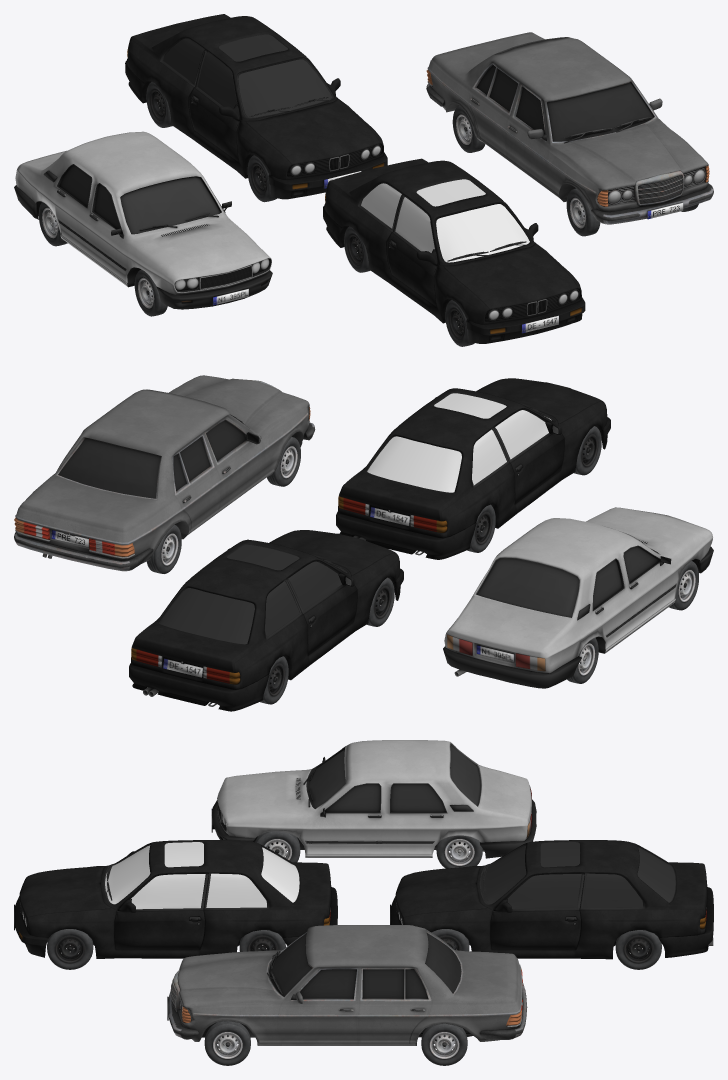
Rendered from car_pack_1.glb.
3 renders of one model, top to bottom at view 1: azimuth 30°, elevation 25°; view 2: azimuth 150°, elevation 25°; view 3: azimuth 270°, elevation 25°, orthographic. The views are drawn at different scales.
Visible parts, largest first — view 1: m123, R 12, D 30, D 30 low, D E30 glass.001, D E30 glass, car wheel 4.001, car wheel 4.003, car wheel 4.002, car wheel 4.010, car wheel 4.011, car wheel 4.012 (+2 smaller); view 2: m123, R 12, D 30 low, D 30, D E30 glass, D E30 glass.001, car wheel 4.002, car wheel 4.001, car wheel 4.010, car wheel 4.011, car wheel 4.003, car wheel 4.012 (+2 smaller); view 3: m123, R 12, D 30 low, D 30, D E30 glass, D E30 glass.001, car wheel 4.392, car wheel 4.000, car wheel 4.007, car wheel 4.013, car wheel 4.005, car wheel 4.006 (+2 smaller).
Part boxes in pixels (bbox=[...]): m123: bbox=[426, 32, 713, 224]; R 12: bbox=[14, 131, 272, 309]; D 30: bbox=[323, 158, 585, 343]; D 30 low: bbox=[125, 14, 387, 199]; D E30 glass.001: bbox=[163, 34, 331, 117]; D E30 glass: bbox=[361, 179, 529, 262]; car wheel 4.001: bbox=[566, 188, 600, 236]; car wheel 4.003: bbox=[134, 269, 167, 316]; car wheel 4.002: bbox=[452, 106, 485, 152]; car wheel 4.010: bbox=[445, 300, 474, 346]; car wheel 4.011: bbox=[247, 155, 276, 202]; car wheel 4.012: bbox=[146, 81, 172, 127]; m123: bbox=[14, 375, 315, 571]; R 12: bbox=[443, 507, 713, 688]; D 30 low: bbox=[129, 530, 403, 711]; D 30: bbox=[336, 378, 610, 559]; D E30 glass: bbox=[367, 393, 551, 492]; D E30 glass.001: bbox=[160, 545, 344, 644]; car wheel 4.002: bbox=[147, 524, 181, 573]; car wheel 4.001: bbox=[267, 437, 300, 486]; car wheel 4.010: bbox=[574, 426, 601, 475]; car wheel 4.011: bbox=[367, 577, 394, 626]; car wheel 4.003: bbox=[669, 561, 698, 610]; car wheel 4.012: bbox=[260, 656, 288, 704]; m123: bbox=[167, 925, 527, 1046]; R 12: bbox=[211, 740, 536, 858]; D 30 low: bbox=[390, 840, 713, 959]; D 30: bbox=[14, 840, 337, 958]; D E30 glass: bbox=[105, 842, 299, 909]; D E30 glass.001: bbox=[481, 842, 675, 909]; car wheel 4.392: bbox=[204, 1021, 250, 1065]; car wheel 4.000: bbox=[421, 1023, 467, 1065]; car wheel 4.007: bbox=[47, 929, 93, 969]; car wheel 4.013: bbox=[615, 930, 661, 969]; car wheel 4.005: bbox=[436, 835, 482, 868]; car wheel 4.006: bbox=[255, 831, 300, 862].
Size of the model in its own units: 7.86 by 1.46 by 9.31.
Materials: 8 (6 with a texture image).
